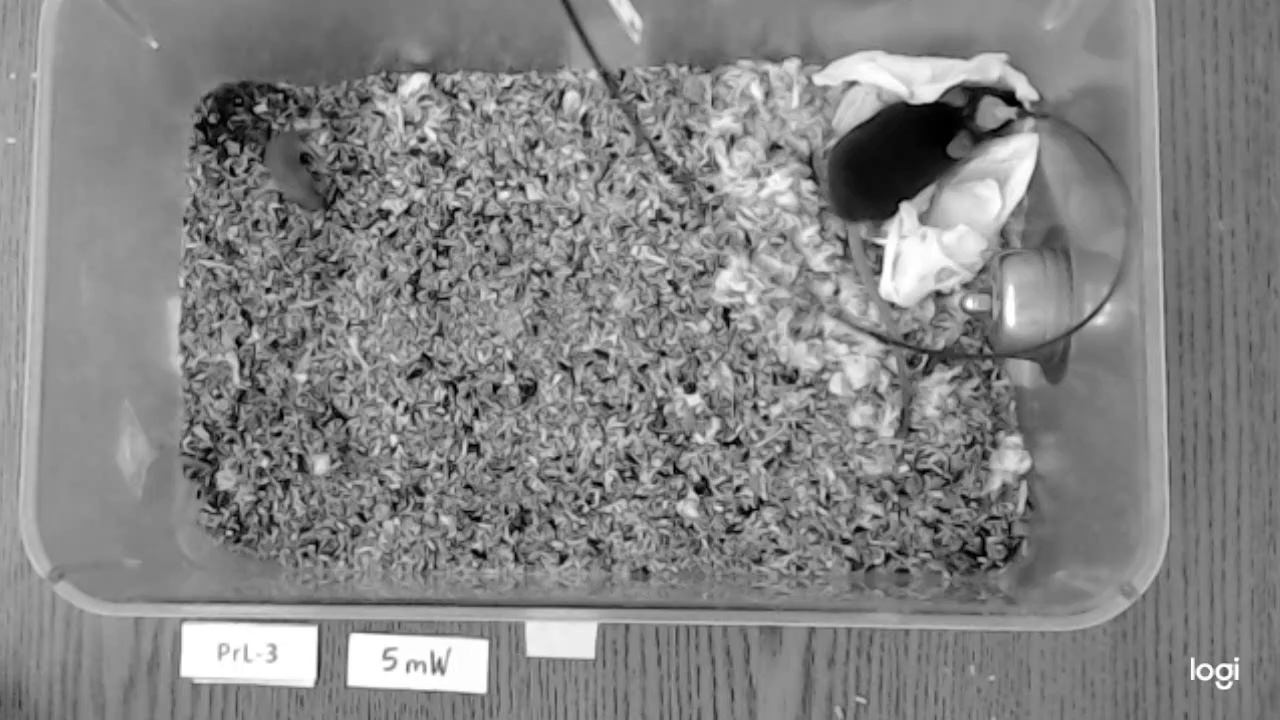child-mice: (259, 130, 327, 210)
